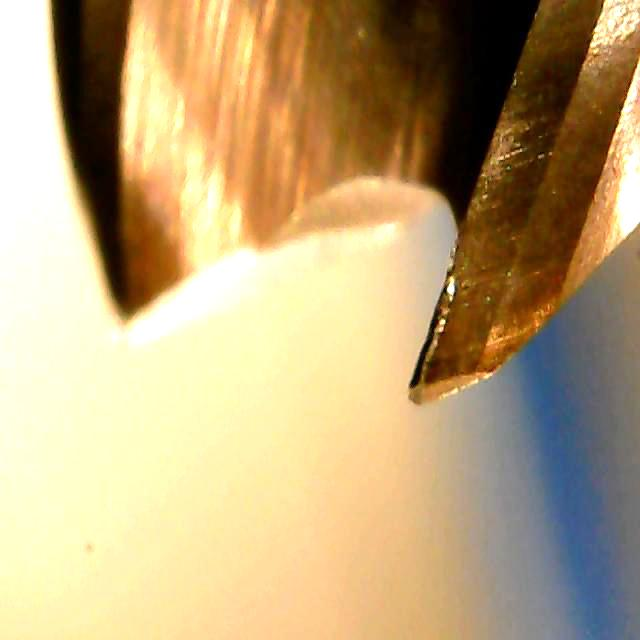Tool-wear-class-1: (388, 195, 523, 415)
